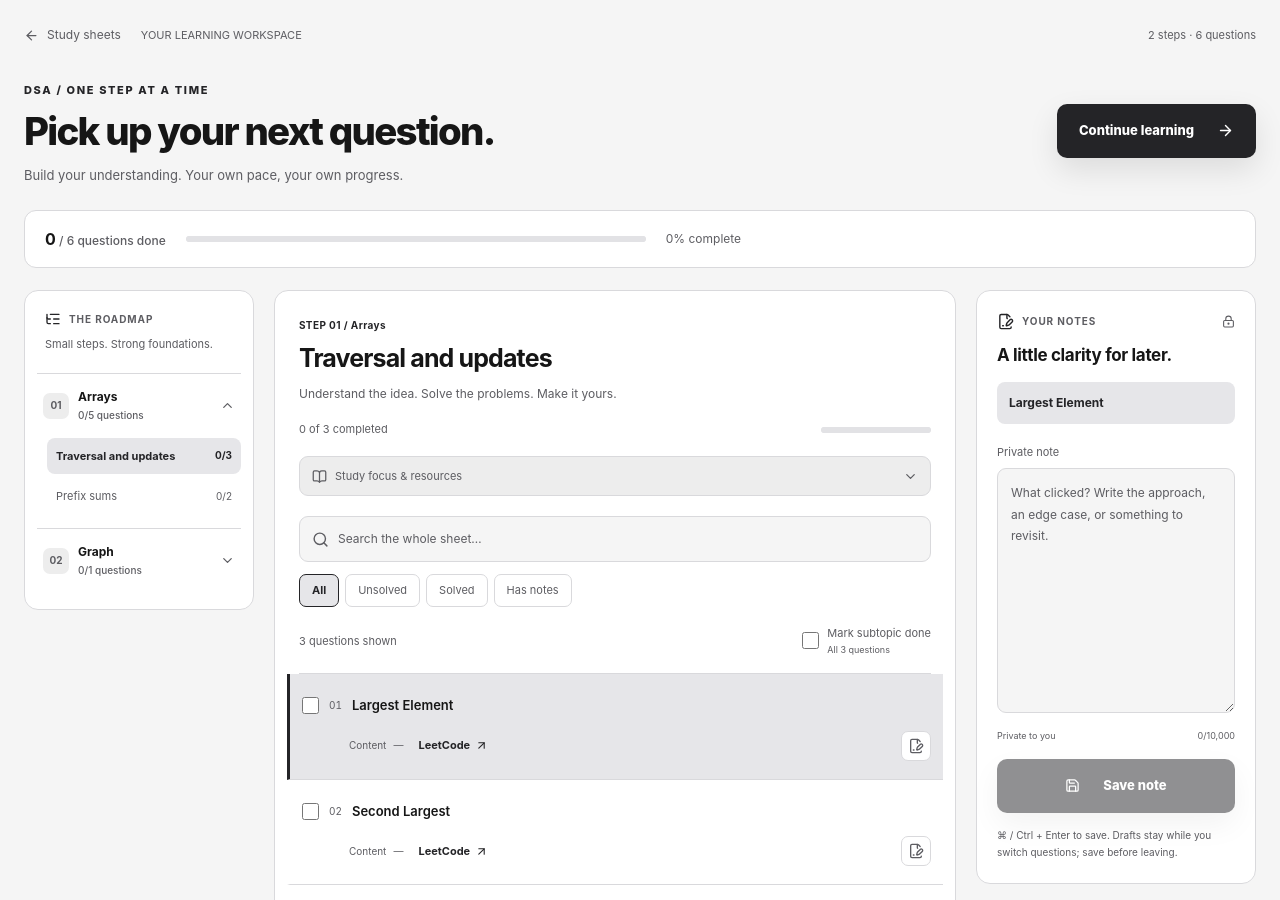
Test: Learning Workspace › retains drafts on a failed save and allows retry
expect the checkbox named "Mark Largest Element complete" is enabled: met, box [302,697,319,714]
Type "Don't lose this." into the text box labelled "Private note" at (1116, 591), box [997,468,1235,713]
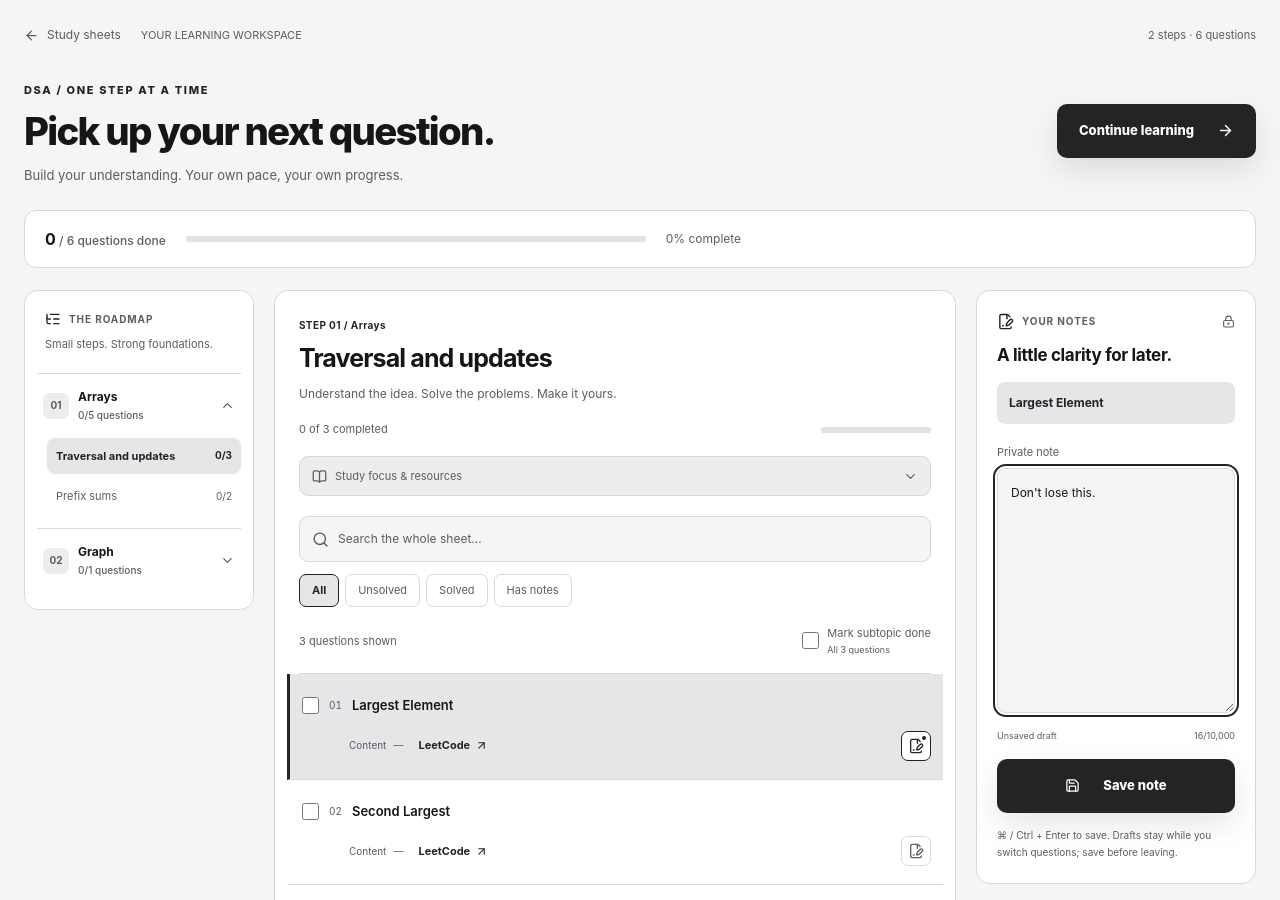
Click the button "Save note" at (1116, 786), box [997,759,1235,813]
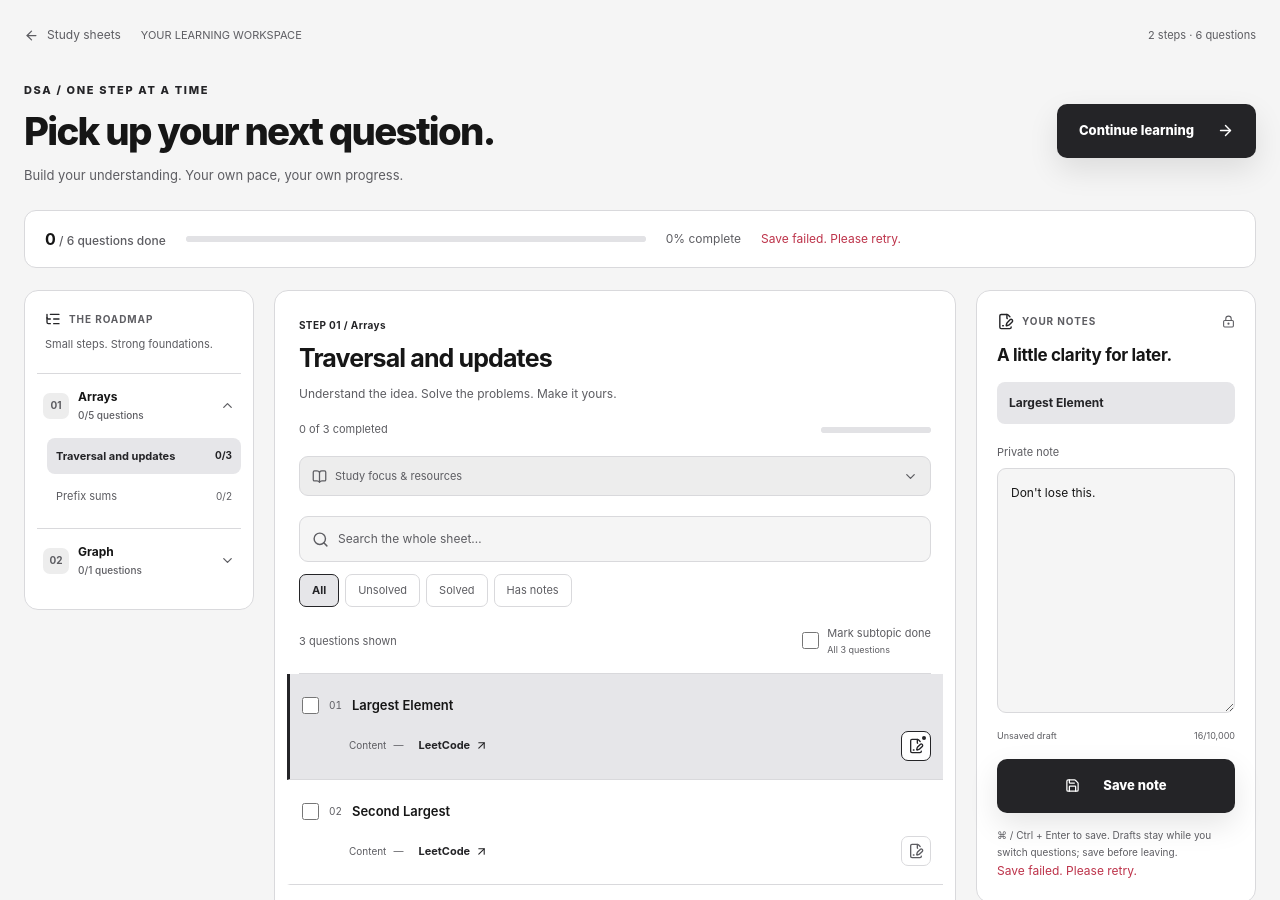
expect the text "Save failed. Please retry." next to "% complete" is shown: met, box [761,231,901,246]
Click the button "Save note" at (1116, 786), box [997,759,1235,813]
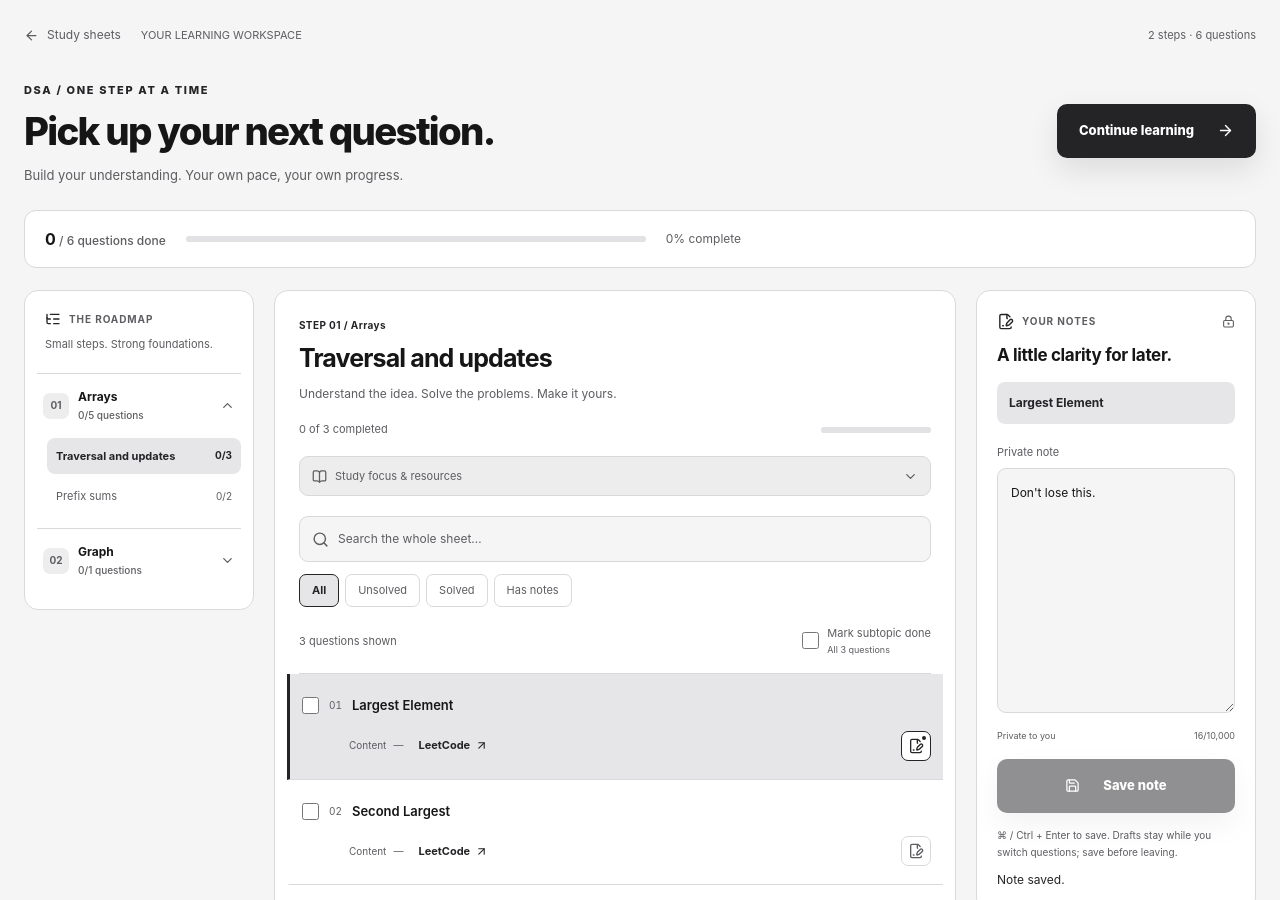
expect the text "Note saved." is shown: met, box [997,872,1065,887]
